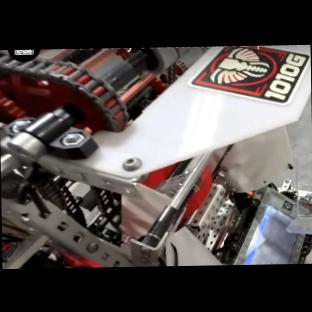Robot: (0, 43, 312, 268)
